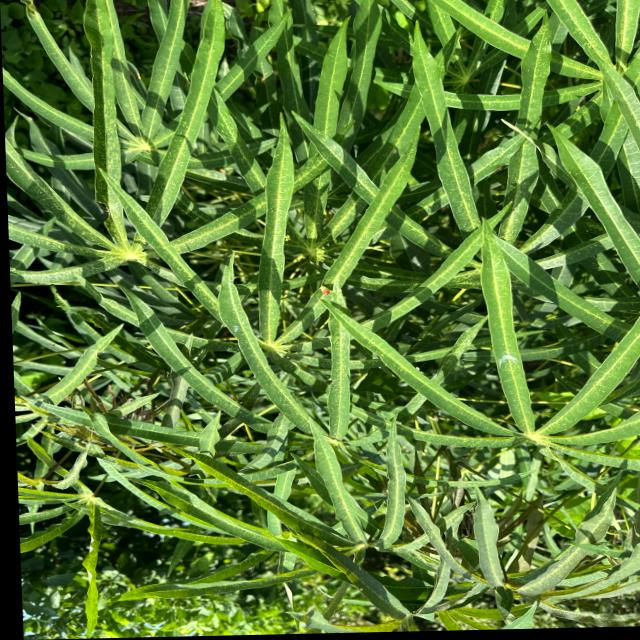Mosca: (316, 279, 335, 298)
